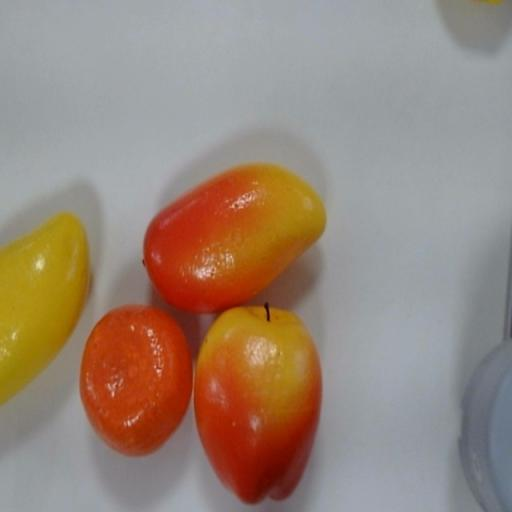Ripe: (142, 160, 330, 311), (192, 299, 323, 507), (77, 301, 194, 461), (0, 207, 92, 410)
